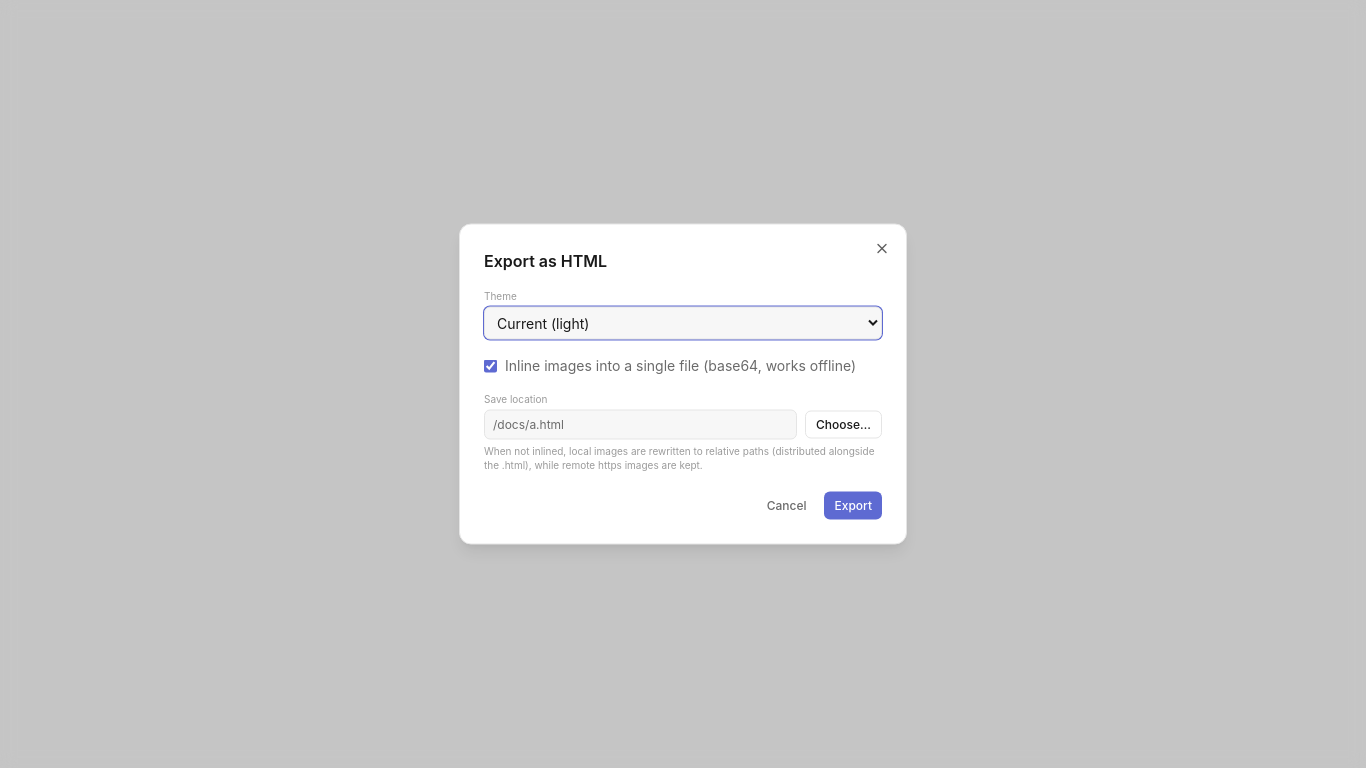
Test: ExportDialog › shows an error when export fails
Expected: the field showing "/docs/a.html" is shown, left=484, top=410, right=797, bottom=440
What coordinates should you click on to do the following:
click the button "Export"
I would click on:
 (853, 506)
Its box is left=824, top=492, right=882, bottom=520.
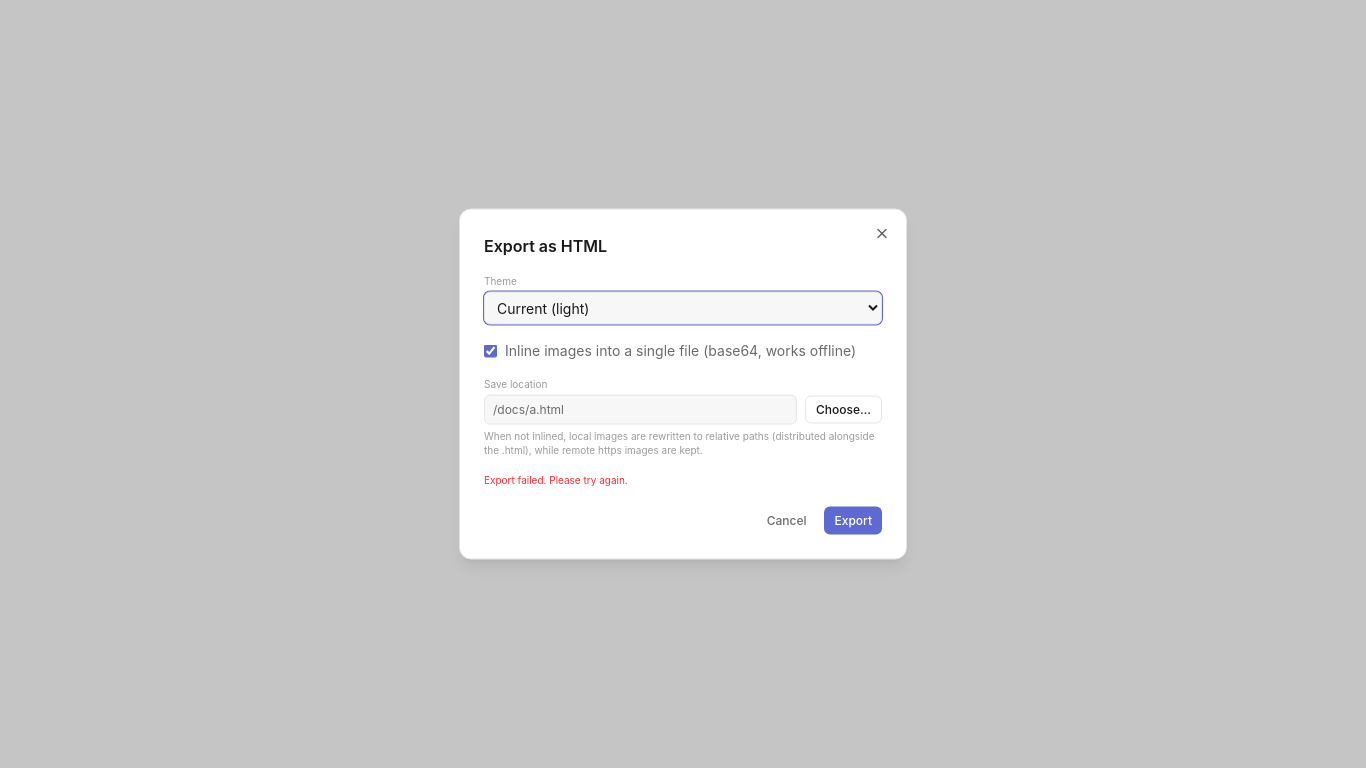
Expected: the text "Export failed. Please try again." is shown, left=484, top=474, right=628, bottom=486
